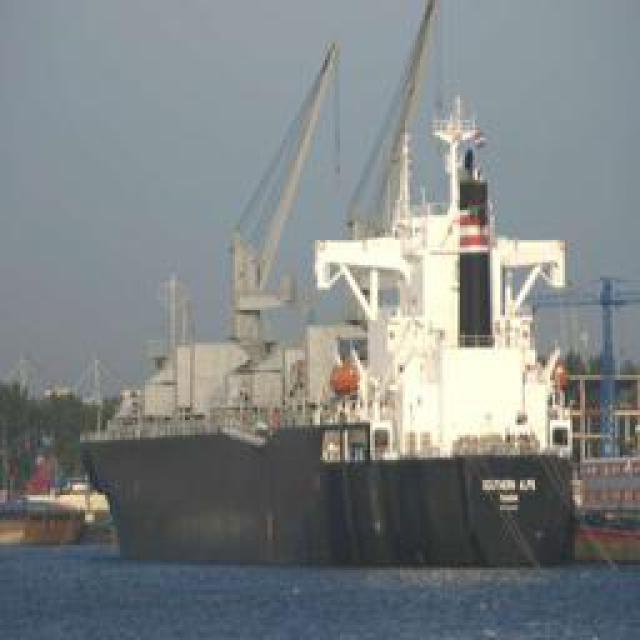Ship: (111, 12, 614, 572)
